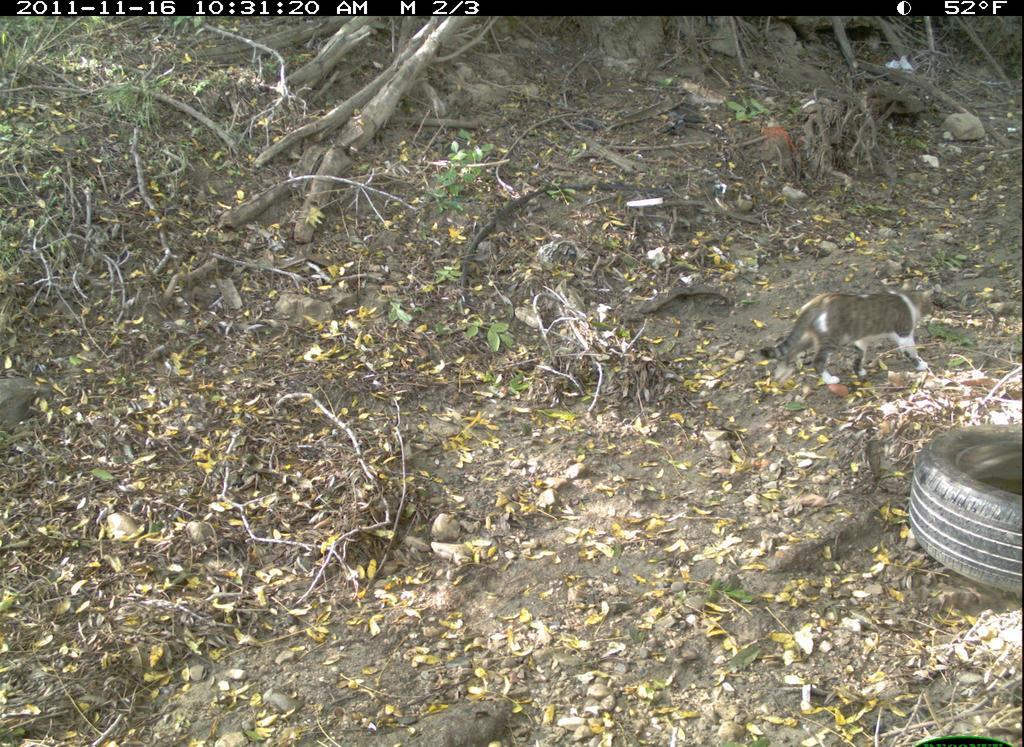cat: (761, 276, 949, 400)
